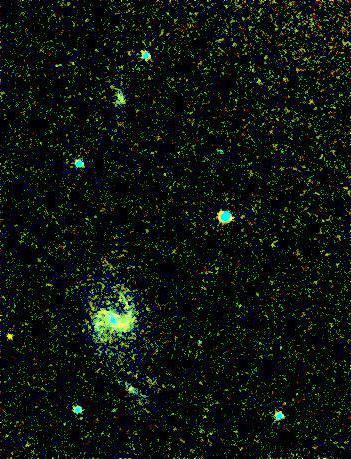star: (0, 324, 29, 354)
